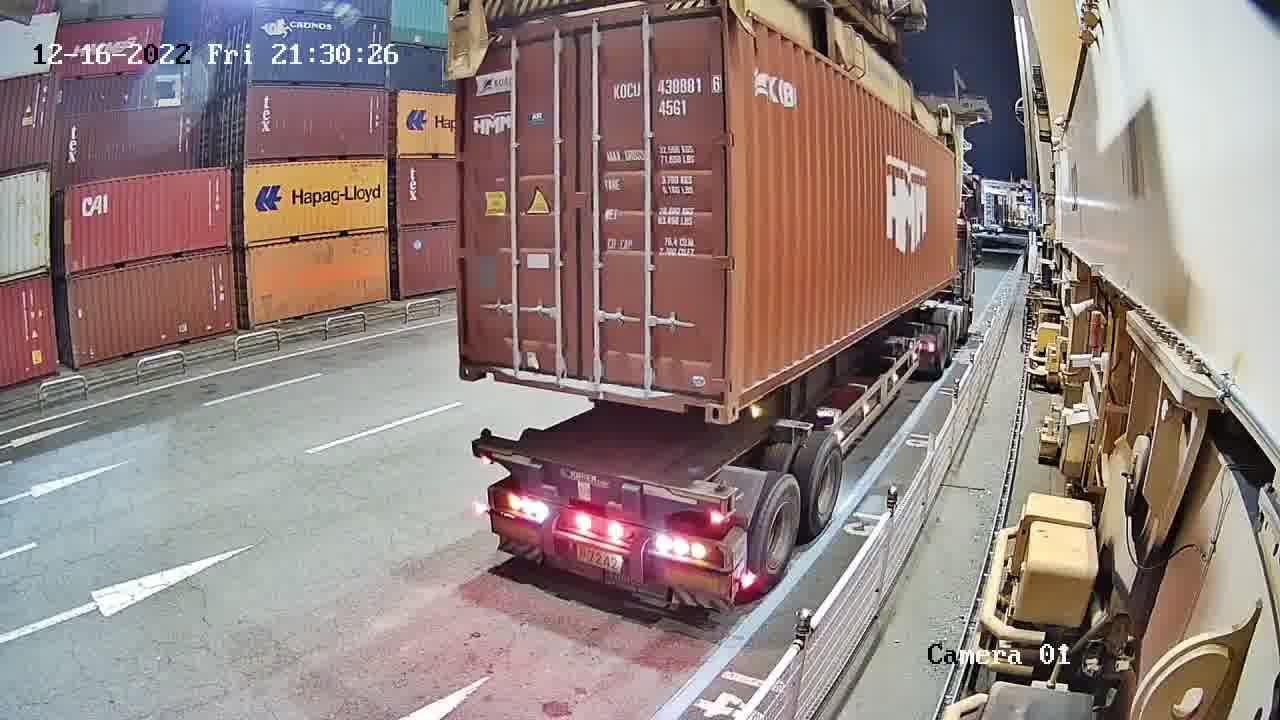Chassis: (474, 447, 731, 544)
Container: (463, 340, 726, 428)
Hole_L: (724, 371, 751, 425), (463, 339, 495, 378)
Hole_R: (682, 372, 723, 427)
Tire: (749, 476, 802, 593), (805, 439, 847, 543)
